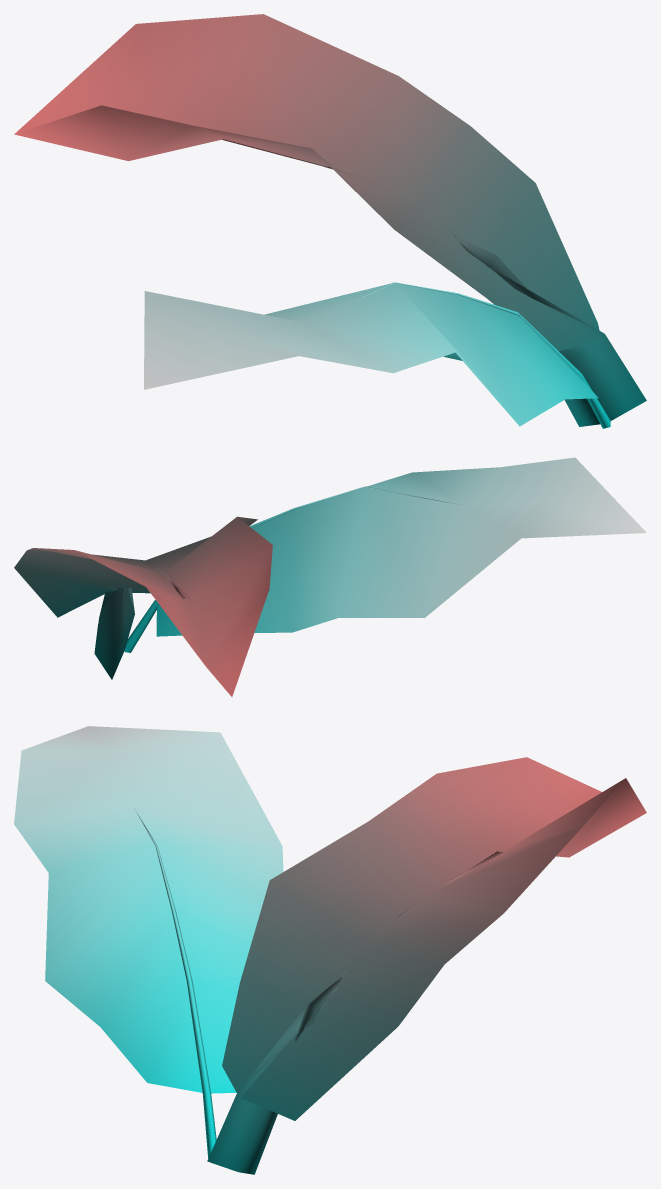
Rendered from Lady_Fern_wdvlditia_Mid_wdvlditia_VarC_LOD1.fbx.
3 renders of one model, top to bottom at view 1: azimuth 30°, elevation 25°; view 2: azimuth 150°, elevation 25°; view 3: azimuth 270°, elevation 25°, orthographic. The views are drawn at different scales.
Visible parts, largest first — view 1: _mwam_VarC_LOD4; view 2: _mwam_VarC_LOD4; view 3: _mwam_VarC_LOD4.
Boxes of the visible parts, box(x1,y1,x2,y2) form: _mwam_VarC_LOD4: box(14, 14, 646, 428); _mwam_VarC_LOD4: box(14, 457, 646, 696); _mwam_VarC_LOD4: box(14, 726, 646, 1174).
Size of the model in its own units: 82.79 by 43.86 by 86.99.
